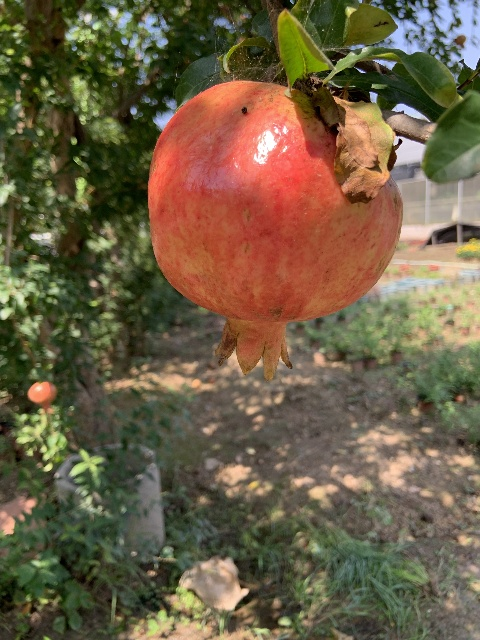ripe: (148, 81, 403, 380), (27, 382, 57, 414)
